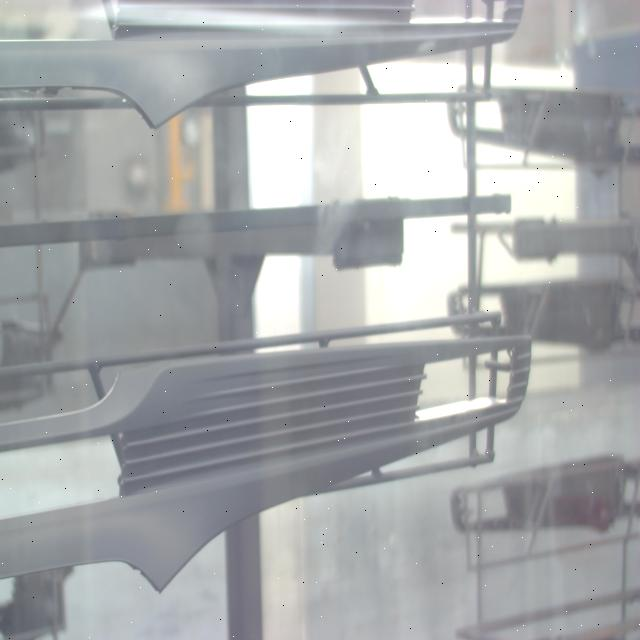Primered: (0, 304, 539, 602), (4, 0, 524, 142)
